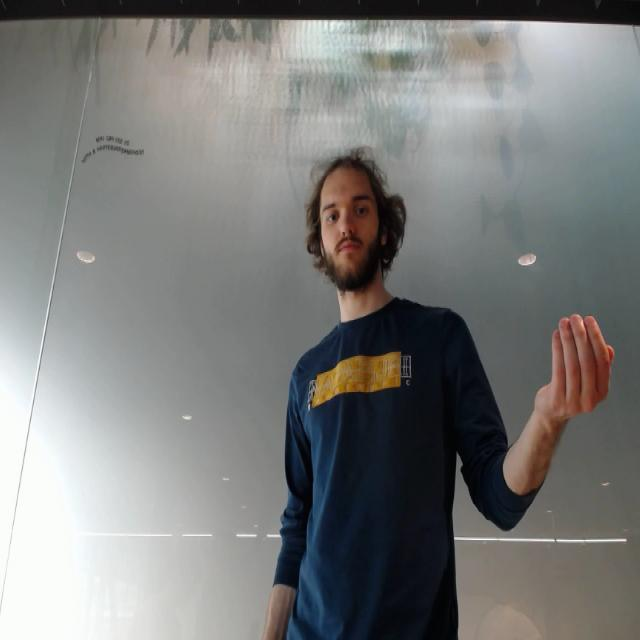forward: (525, 308, 622, 433)
